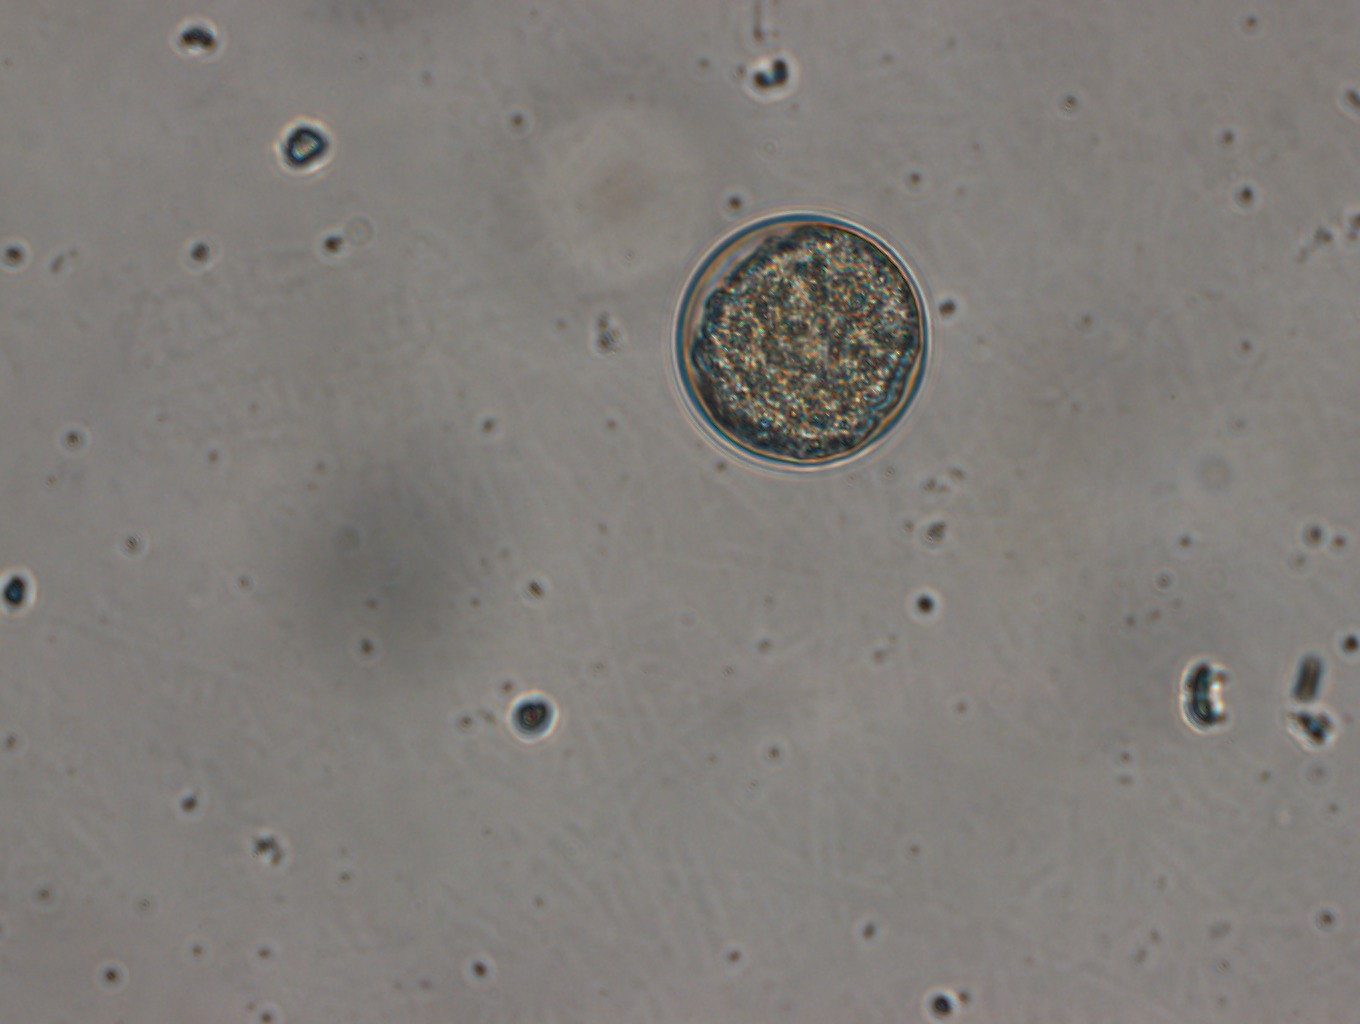coscinodiscus: (667, 207, 936, 479)
